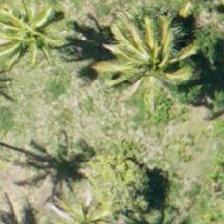coconut_tree: (115, 24, 205, 114), (0, 0, 70, 81)
